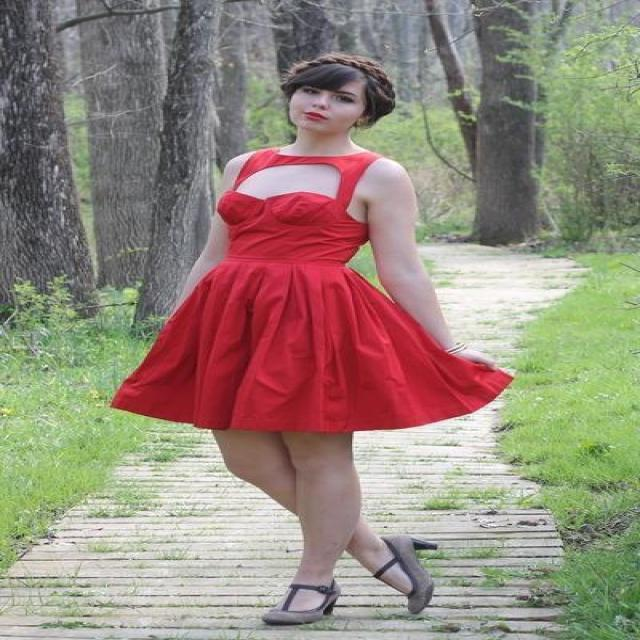dress: (110, 141, 512, 433)
shoe: (262, 538, 516, 626)
